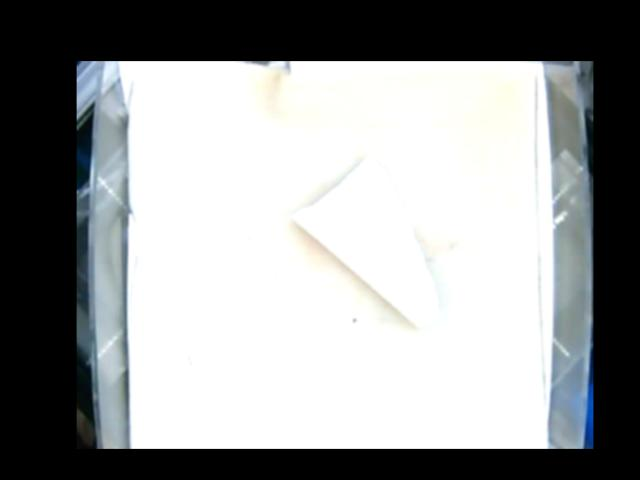China: (292, 154, 439, 332)
